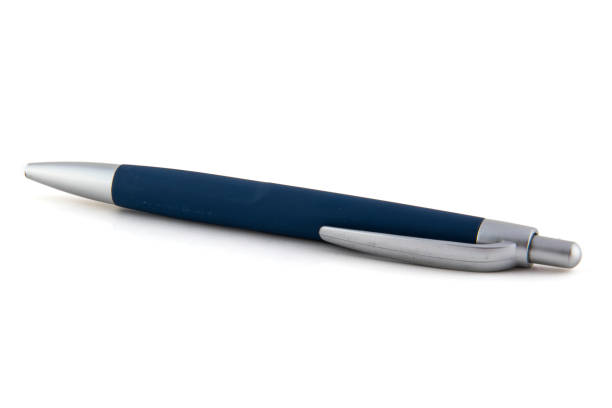pen: (19, 155, 590, 296)
